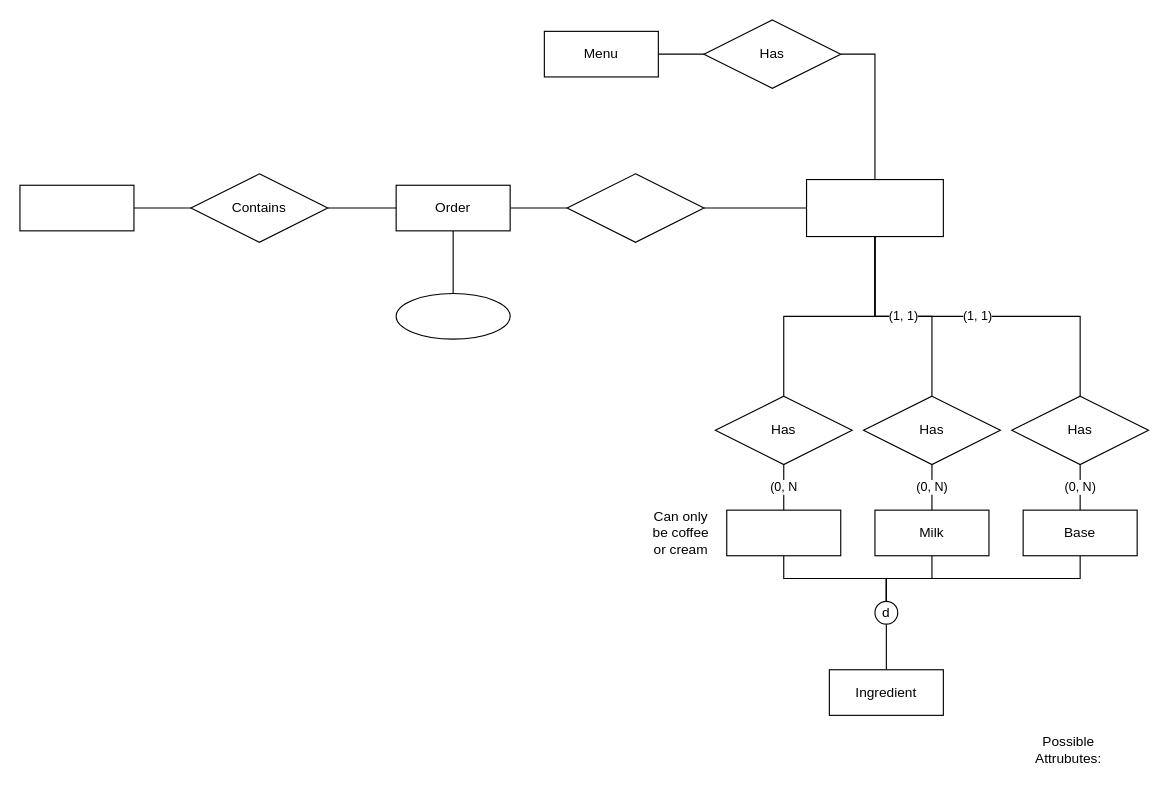
Some shapes in this 1169 by 792 pixel diagram are drawn without their labels. Each missing label, with the centre of its shape:
Checkout Cart: point (76, 207)
Comments: point (452, 315)
Extras: point (783, 532)
Frappe: point (874, 207)
Have: point (635, 207)
